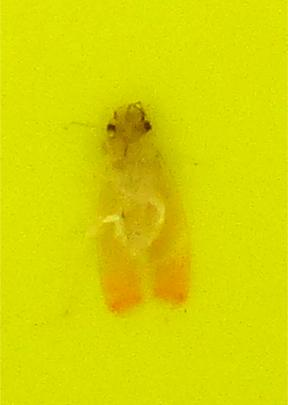Hemiptera: (100, 100, 188, 305)
